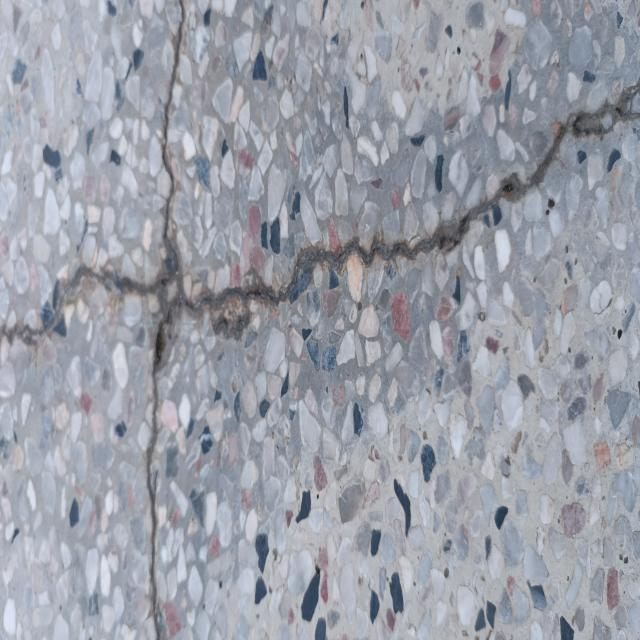branched cracks: (0, 0, 639, 639)
